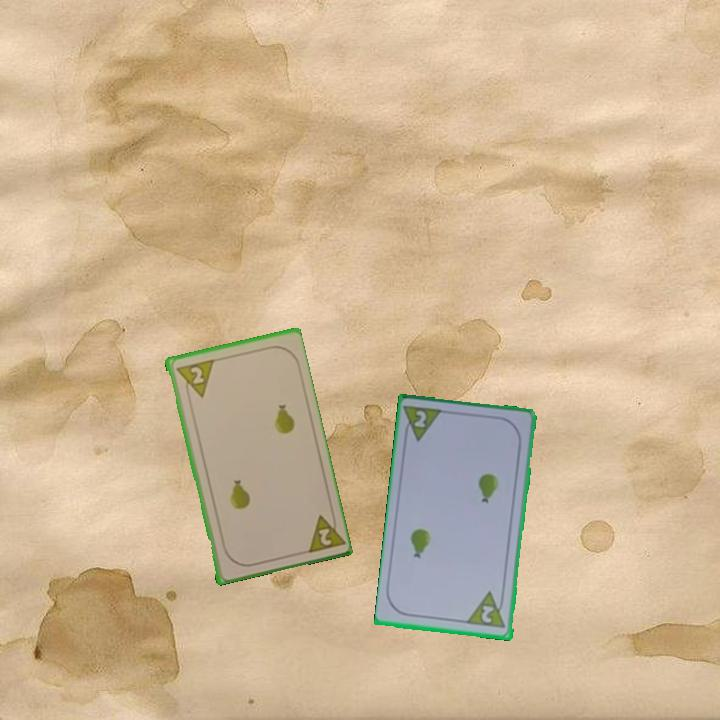2p: (302, 507, 346, 556), (172, 356, 215, 402), (400, 402, 446, 445), (478, 602, 497, 626)
